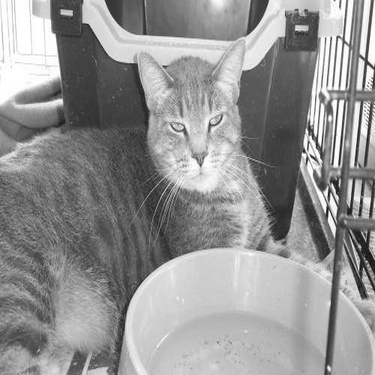cat: (5, 28, 371, 372)
